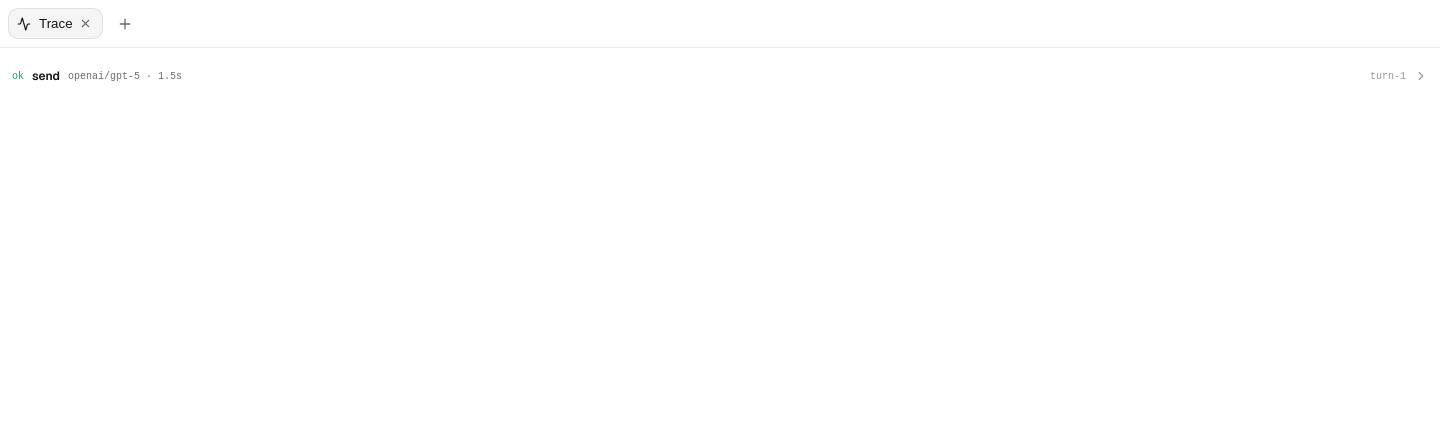
Test: Workbench › renders compaction span with bounded diagnostics
This screenshot has width=1440, height=441.
Click the button "ok send openai/gpt-5 · 1.5s turn-1": click(125, 76) x1=12 y1=64 x2=1428 y2=88
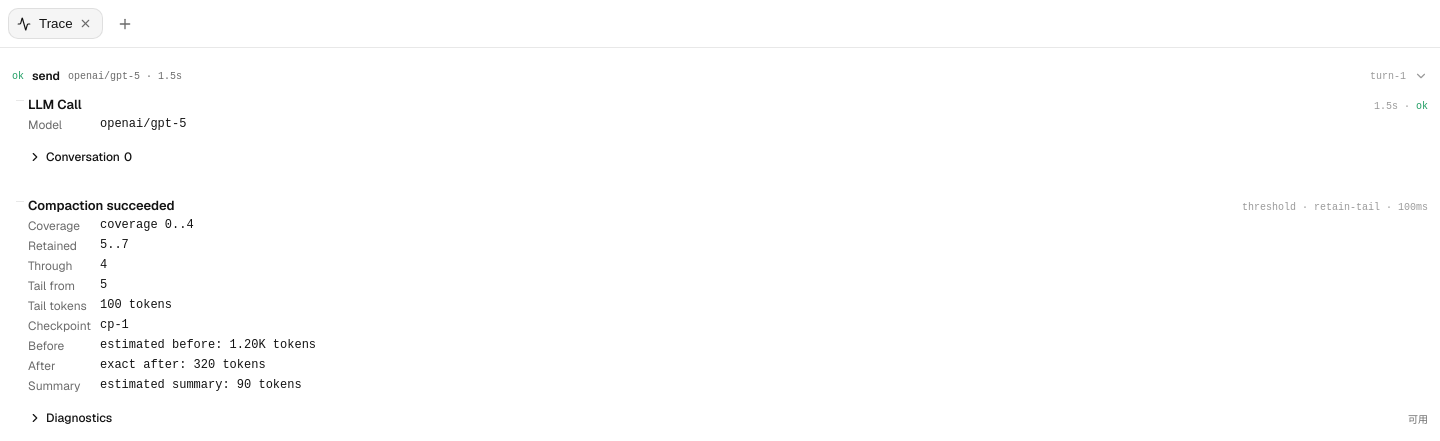
Result: the heading "Compaction succeeded" is shown at x1=28 y1=197 x2=175 y2=214
Result: the text "threshold · retain-tail · 100ms" is shown at x1=1242 y1=202 x2=1428 y2=213
Result: the text "coverage 0..4" is shown at x1=100 y1=218 x2=194 y2=232
